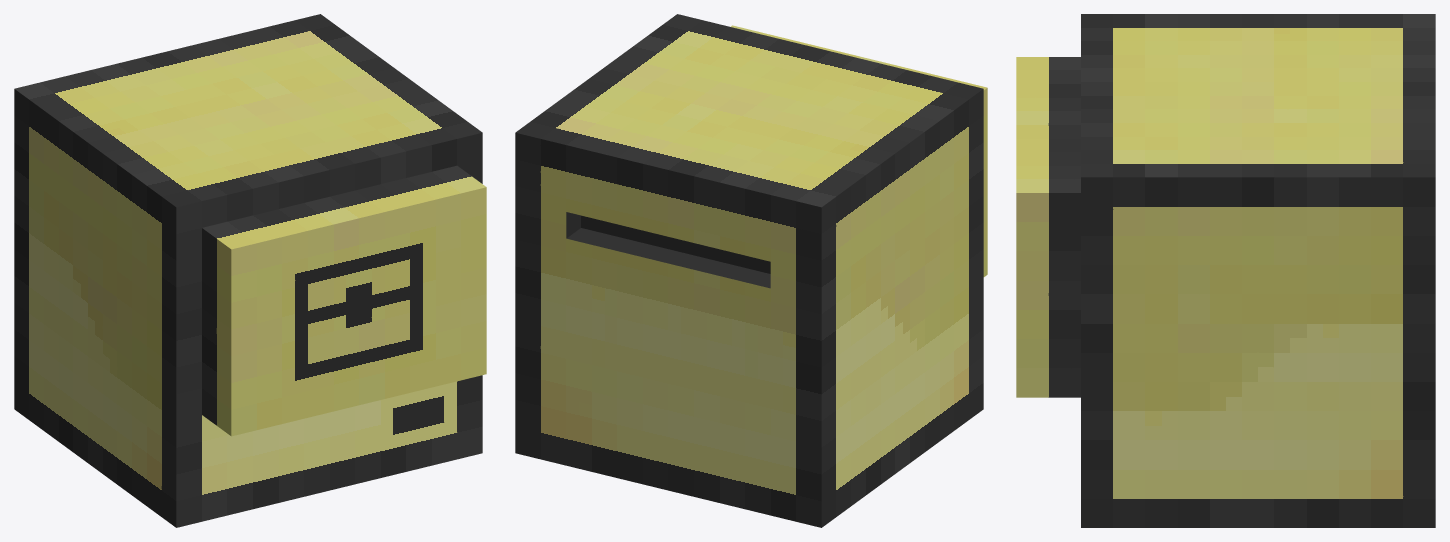
The model's file is Turtle1.gltf.
3 views of the same model, side by side, from view 1: azimuth 30°, elevation 25°; view 2: azimuth 150°, elevation 25°; view 3: azimuth 270°, elevation 25° (orthographic). The views are drawn at different scales.
Visible parts, largest first — view 1: Turtle.001; view 2: Turtle.001; view 3: Turtle.001.
Boxes of the visible parts, x1,y1,x2,y2 form: Turtle.001: (14, 14, 486, 527); Turtle.001: (515, 14, 987, 527); Turtle.001: (1016, 14, 1435, 527).
Size of the model in its own units: 0.75 by 0.75 by 0.8125.
1 material, 1 textured.
